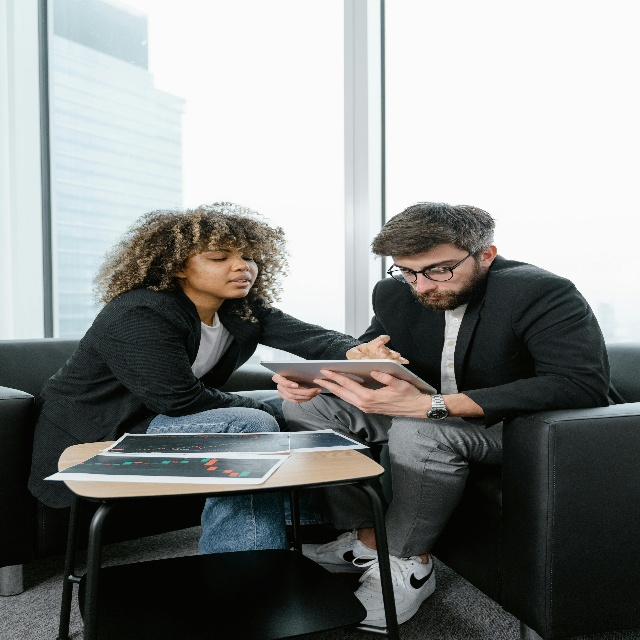Gafas: (386, 249, 475, 284)
Sin_guantes: (312, 370, 426, 419), (346, 333, 409, 365), (272, 373, 322, 404)
